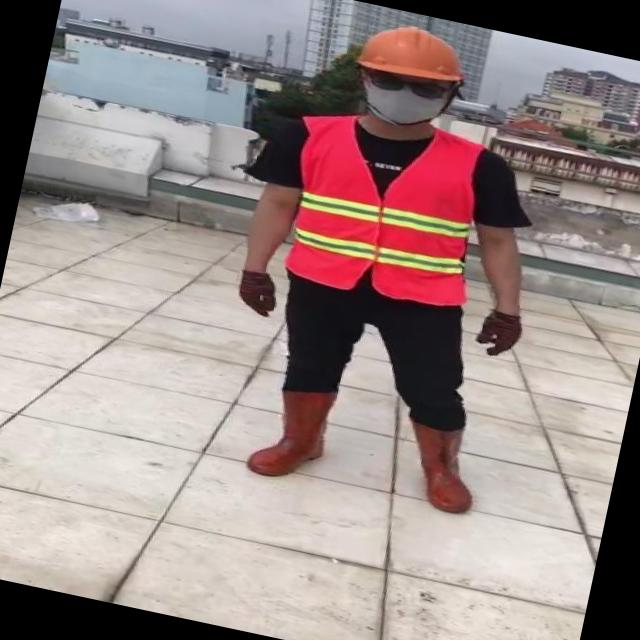hard_hat: (351, 12, 477, 93)
safety_vest: (274, 104, 500, 314)
vehicle: (187, 2, 598, 532)
work_boots: (386, 412, 490, 516), (244, 380, 337, 488)
